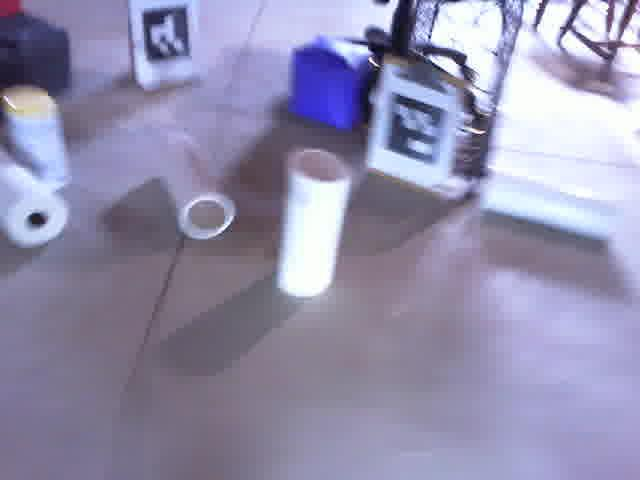coral: (277, 146, 353, 296), (153, 134, 233, 239)
